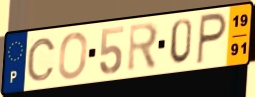0: (167, 17, 193, 66)
5: (98, 24, 126, 76)
C: (25, 37, 57, 83)
O: (57, 30, 89, 81)
P: (195, 11, 229, 67)
R: (126, 20, 161, 75)
